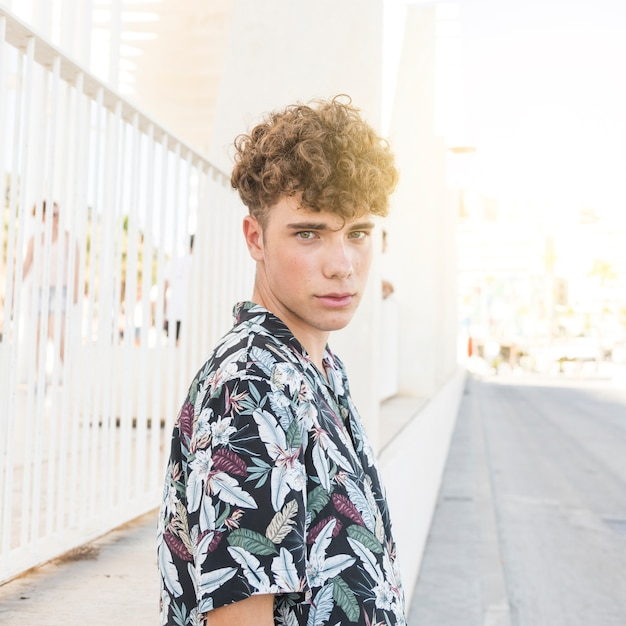teen: (206, 99, 414, 337)
